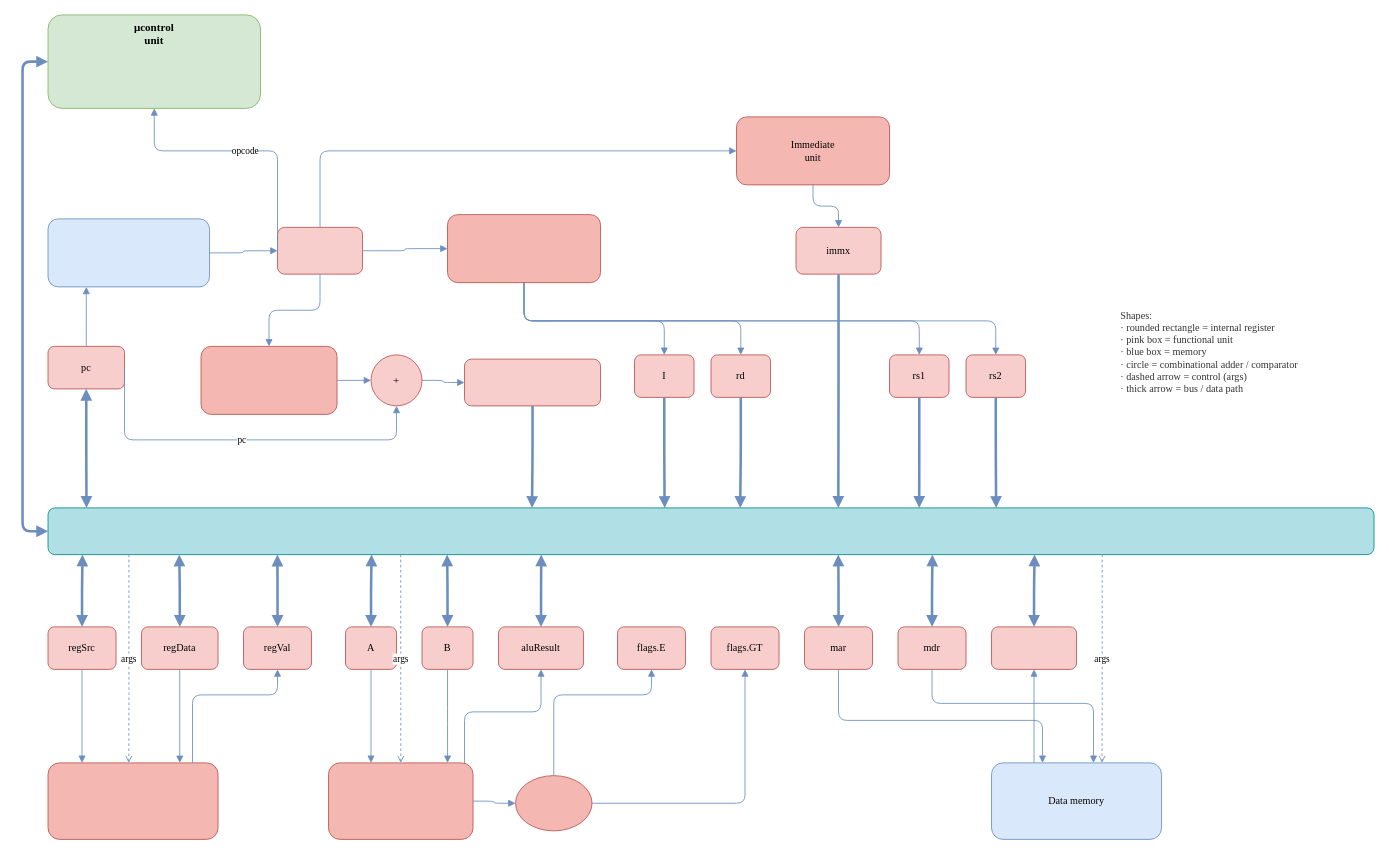
Some shapes in this 1389 by 854 pixel diagram are drawn without their labels. The shapes that lost their labels are listed below. From the top down, each one's box as (x1, y1, x2, y2) in pixels, then its label:
(47, 218, 210, 287): Instruction memory
(277, 227, 363, 274): ir
(447, 214, 601, 283): Decode unit
(200, 346, 337, 414): calc. offset
(464, 358, 601, 406): branchTarget
(47, 507, 1374, 555): Shared bus
(991, 626, 1077, 669): ldResult
(47, 762, 218, 839): Register file (16 GPRs)
(328, 762, 473, 839): ALU
(515, 775, 592, 831): flags
